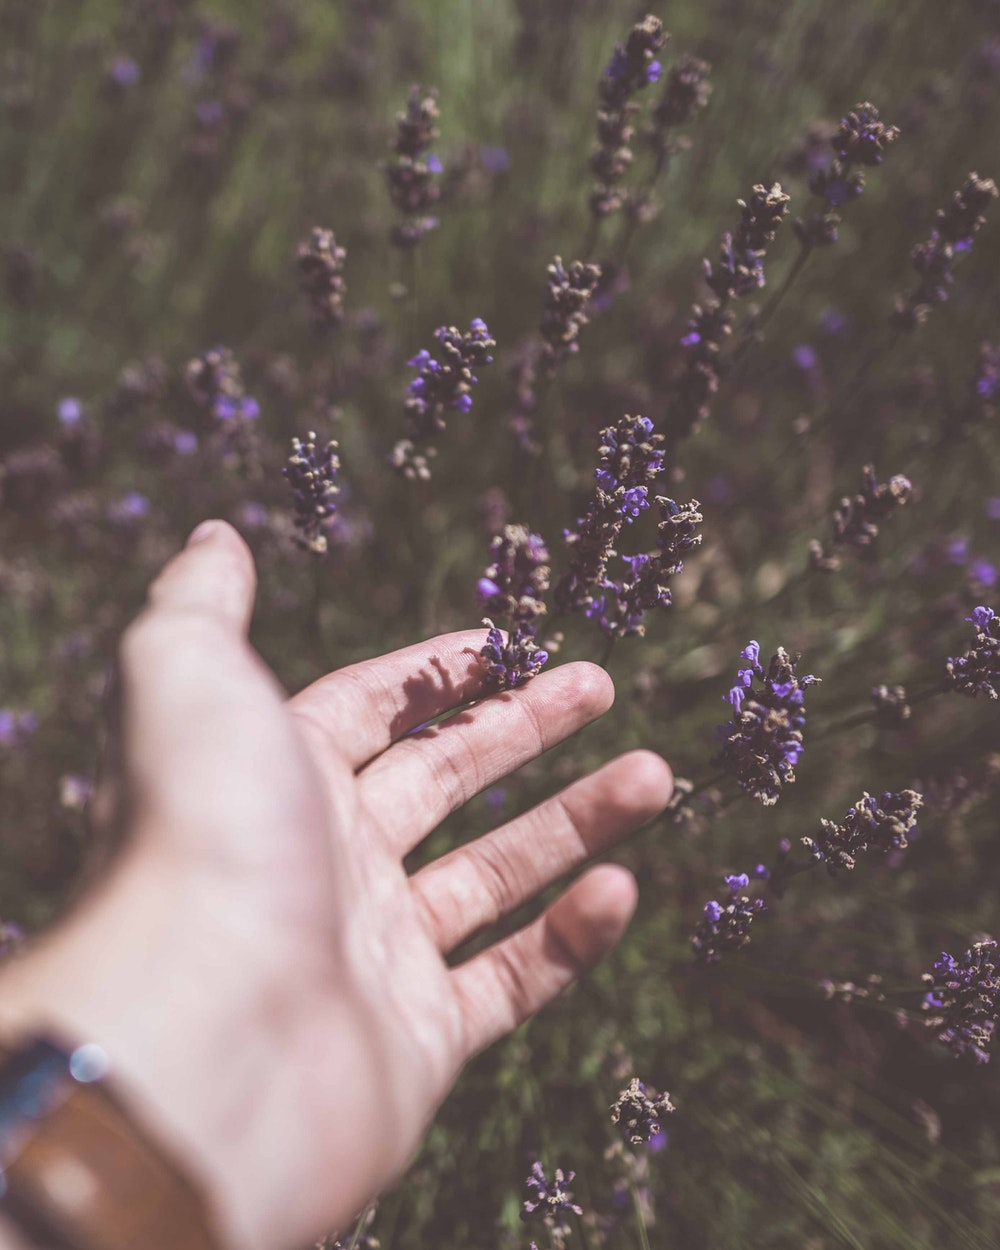palm: (226, 768, 459, 1132)
